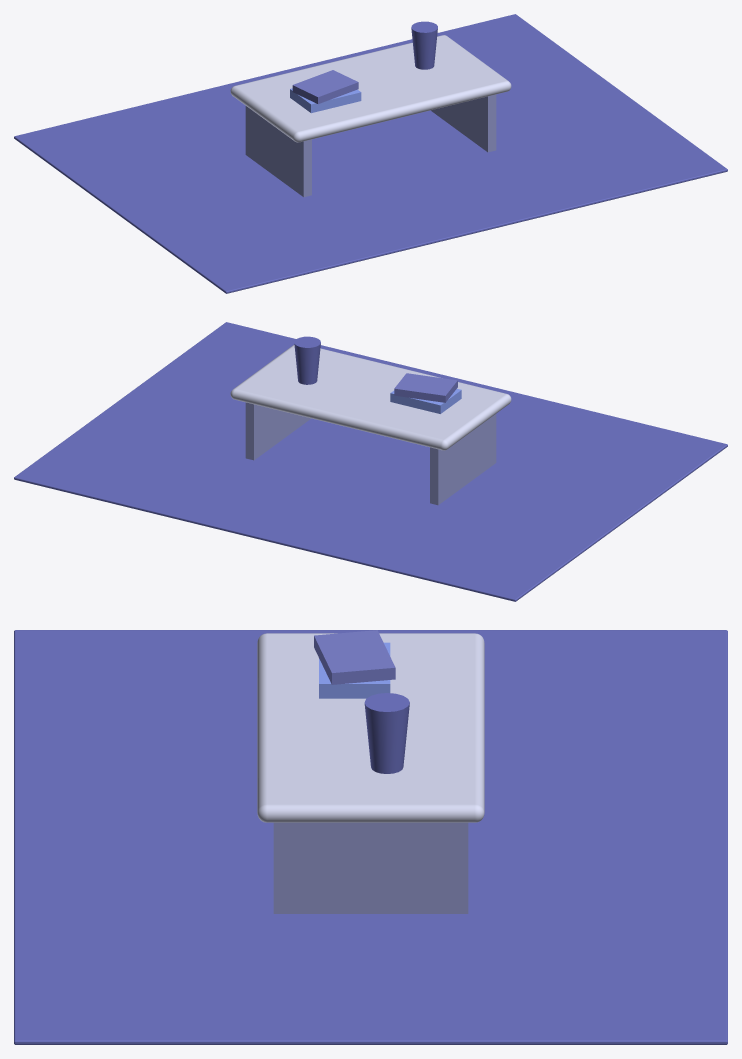
The model's file is loungeSet.glb.
3 views of the same model, one above another, from view 1: azimuth 30°, elevation 25°; view 2: azimuth 150°, elevation 25°; view 3: azimuth 270°, elevation 25° (orthographic). The views are drawn at different scales.
Visible parts, largest first — view 1: rug, table, loungeSet, book1, vase, book0; view 2: rug, table, loungeSet, book1, vase, book0; view 3: rug, table, loungeSet, book1, vase, book0.
Boxes of the visible parts, x1,y1,x2,y2 form: rug: (14, 14, 727, 293); table: (230, 35, 511, 142); loungeSet: (245, 94, 496, 197); book1: (292, 70, 358, 104); vase: (411, 21, 437, 69); book0: (290, 88, 361, 113); rug: (14, 322, 727, 601); table: (230, 345, 511, 450); loungeSet: (245, 402, 496, 505); book1: (394, 373, 457, 402); vase: (294, 336, 320, 384); book0: (390, 389, 461, 413); rug: (14, 630, 727, 1044); table: (257, 633, 484, 822); loungeSet: (273, 822, 468, 913); book1: (314, 630, 395, 684); vase: (364, 693, 409, 773); book0: (319, 642, 390, 698).
Bounding box in the file's own units: 3 × 0.63 × 2.2.
